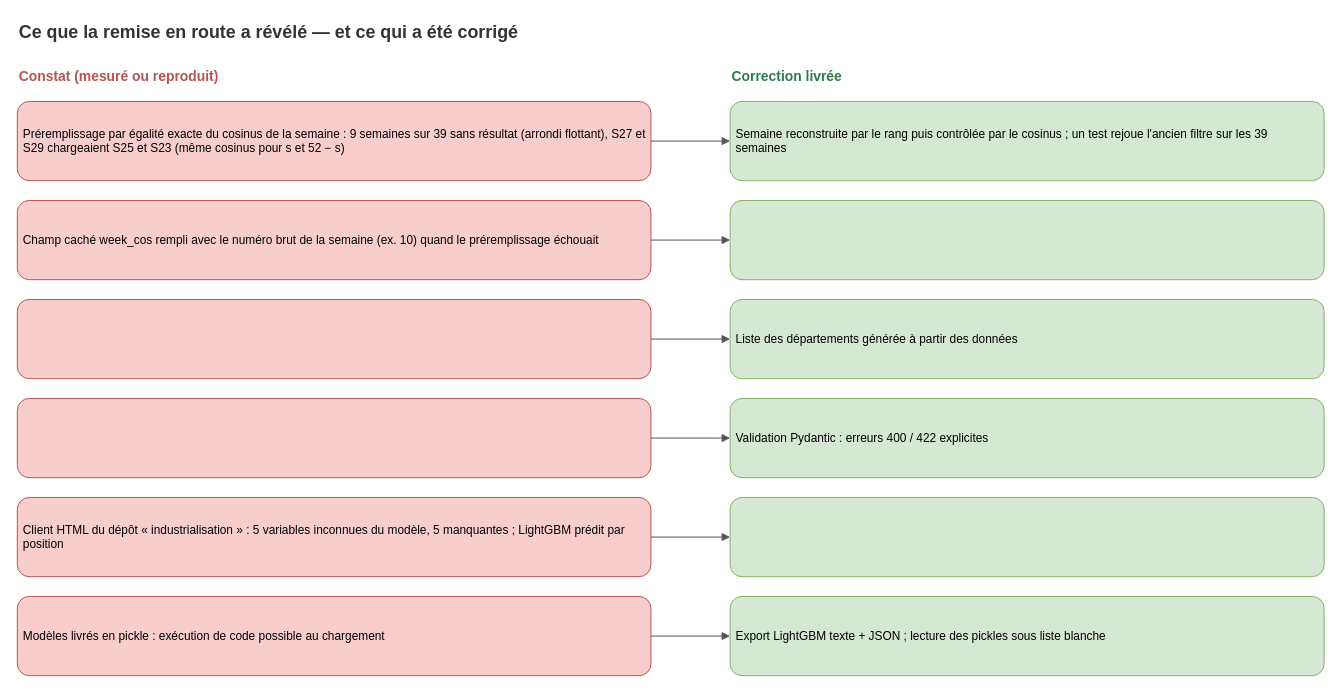
This 1341x693 diagram has some shape labels left out. The centre of each missing label's shape, as x and y in pixels:
"Champ vide → NaN silencieux : une prédiction était rendue quand même" belongs at pixel 333 437.
"Constat reproduit et documenté ; l'API v2 refuse tout champ inconnu" belongs at pixel 1026 536.
"Cosinus calculé dans le navigateur ; erreur 404 affichée à l'utilisateur" belongs at pixel 1026 239.
"Département 63 proposé dans l'interface mais absent des données" belongs at pixel 333 338.
